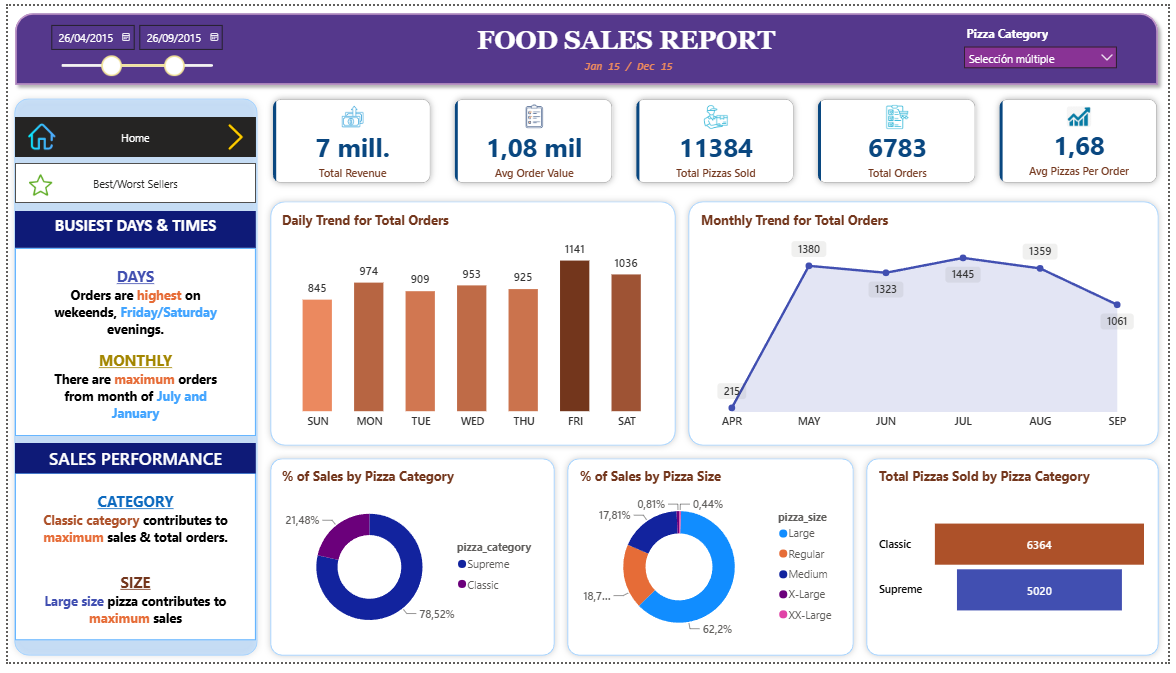

The page's visual inventory and layout, read from the dashboard file:
{"tool":"powerbi","page":{"name":"Home","canvas":[1451,820],"ordinal":0},"visuals":[{"type":"cardVisual","fields":{"Data":["pizza_sales.Total Revenue","pizza_sales.Avg Order Value","pizza_sales.Total Pizzas Sold","pizza_sales.Total Orders","pizza_sales.Avg Pizzas Per Order"]},"box":[306,91.2,1156.2,155],"z":0},{"type":"shape","box":[0,0,1446.2,107.5],"z":1000},{"type":"textbox","box":[581.2,20,392.5,55],"z":2000},{"type":"textbox","box":[710,61.2,131.2,35],"z":3000},{"type":"shape","box":[320,236.2,522.5,321.2],"z":4000},{"type":"columnChart","title":"Daily Trend for Total Orders","fields":{"Y":["pizza_sales.Total Orders"],"Category":["pizza_sales.Order Day"]},"box":[337.5,256.2,486.2,281.2],"z":5000},{"type":"shape","box":[842.5,236.2,603.8,321.2],"z":6000},{"type":"areaChart","title":"Monthly Trend for Total Orders","fields":{"Y":["pizza_sales.Total Orders"],"Category":["pizza_sales.Order Month"]},"box":[861.2,256.2,568.8,281.2],"z":7000},{"type":"shape","box":[320,557.5,371.2,262.5],"z":8000},{"type":"shape","box":[691.2,557.5,373.8,262.5],"z":9000},{"type":"shape","box":[1065,557.5,381.2,262.5],"z":10000},{"type":"donutChart","title":"% of Sales by Pizza Category","fields":{"Category":["pizza_sales.pizza_category"],"Y":["pizza_sales.Total Revenue"]},"box":[337.5,576.2,337.5,228.8],"z":11000},{"type":"donutChart","title":"% of Sales by Pizza Size","fields":{"Y":["pizza_sales.Total Revenue"],"Category":["pizza_sales.pizza_size"]},"box":[710,576.2,337.5,228.8],"z":12000},{"type":"shape","box":[0,107.5,320,712.5],"z":13000},{"type":"funnel","title":"Total Pizzas Sold by Pizza Category","fields":{"Y":["pizza_sales.Total Pizzas Sold"],"Category":["pizza_sales.pizza_category"]},"box":[1083.8,576.2,346.2,228.8],"z":14000},{"type":"textbox","box":[8.8,256.2,301.2,46.2],"z":15000},{"type":"textbox","box":[8.8,302.5,301.2,235],"z":16000},{"type":"textbox","box":[8.8,583.8,301.2,208.8],"z":17000},{"type":"textbox","box":[8.8,546.2,301.2,37.5],"z":18000},{"type":"slicer","fields":{"Values":["pizza_sales.pizza_category"]},"box":[1185,18.8,211.2,68.8],"z":19000},{"type":"slicer","fields":{"Values":["pizza_sales.order_date"]},"box":[41.2,13.8,236.2,82.5],"z":20000},{"type":"pageNavigator","box":[8.8,139,301.2,50],"z":21000},{"type":"pageNavigator","box":[8.8,196.2,301.2,50],"z":22000},{"type":"image","box":[267.5,141.2,33.8,45],"z":23000},{"type":"image","box":[11,146.2,61.2,33.8],"z":24000},{"type":"image","box":[26.2,188.8,28.8,70],"z":25000}]}

Visuals, with their boxes in screenshot pixels (x1, y1, x2, y2), scaled from the page's 1451x820 canvas onto the 1176x673 screenshot:
cardVisual - pizza_sales.Total Revenue x pizza_sales.Avg Order Value: (248,75,1175,202)
shape: (0,0,1172,88)
textbox: (471,16,789,62)
textbox: (575,50,682,79)
shape: (259,194,683,457)
"Daily Trend for Total Orders" columnChart: (274,210,668,441)
shape: (683,194,1172,457)
"Monthly Trend for Total Orders" areaChart: (698,210,1159,441)
shape: (259,458,560,672)
shape: (560,458,863,672)
shape: (863,458,1172,672)
"% of Sales by Pizza Category" donutChart: (274,473,547,661)
"% of Sales by Pizza Size" donutChart: (575,473,849,661)
shape: (0,88,259,672)
"Total Pizzas Sold by Pizza Category" funnel: (878,473,1159,661)
textbox: (7,210,251,248)
textbox: (7,248,251,441)
textbox: (7,479,251,651)
textbox: (7,448,251,479)
slicer - pizza_sales.pizza_category: (960,15,1132,72)
slicer - pizza_sales.order_date: (33,11,225,79)
pageNavigator: (7,114,251,155)
pageNavigator: (7,161,251,202)
image: (217,116,244,153)
image: (9,120,59,148)
image: (21,155,45,212)
